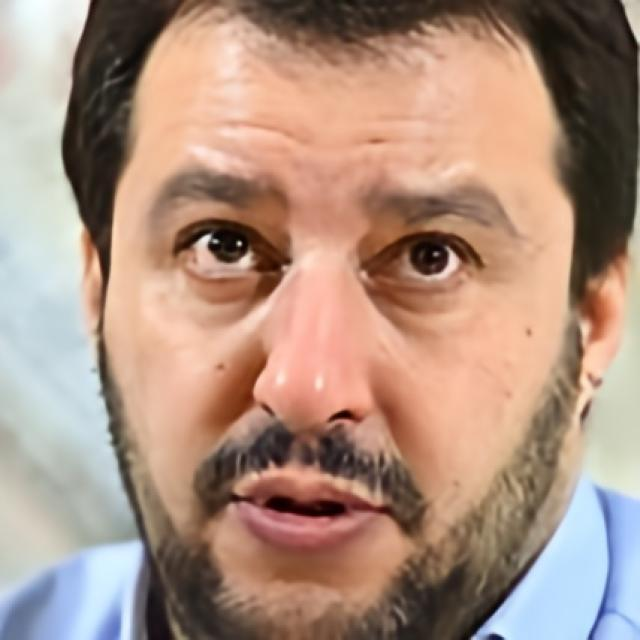surprise: (99, 1, 574, 640)
